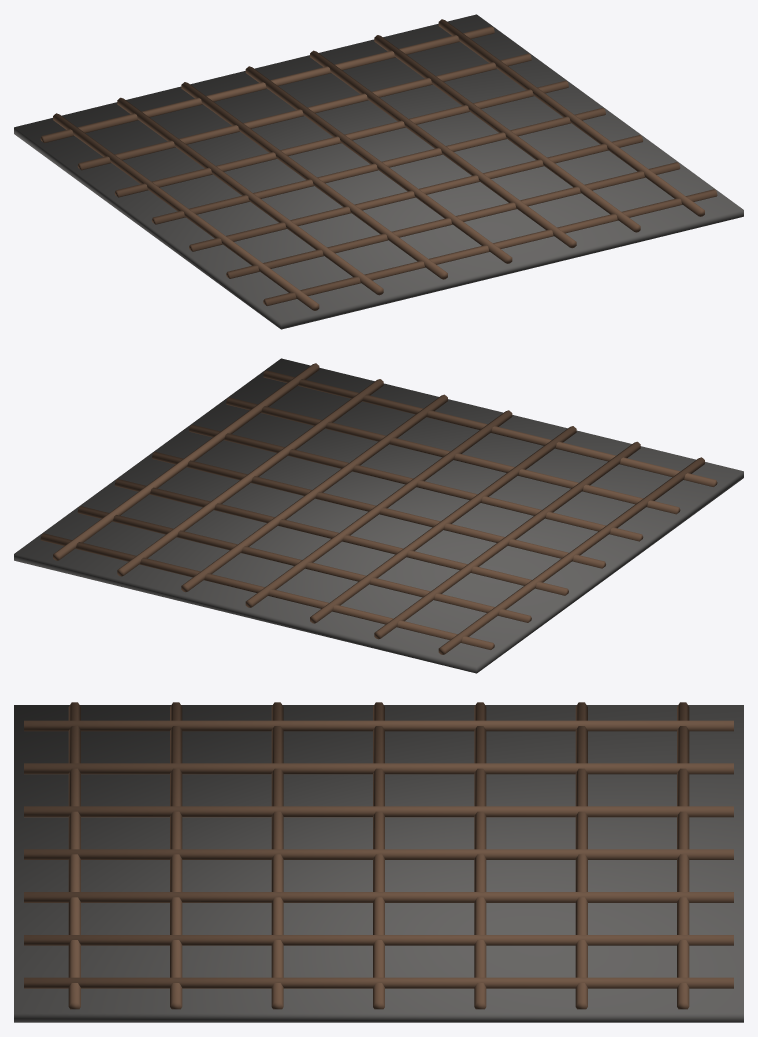
The model's file is spike_grate.glb.
3 views of the same model, one above another, from view 1: azimuth 30°, elevation 25°; view 2: azimuth 150°, elevation 25°; view 3: azimuth 270°, elevation 25° (orthographic). The views are drawn at different scales.
Visible parts, largest first — view 1: Frame, BarX4, BarX0, BarX3, BarX5, BarX2, BarX1, BarX6, BarY2, BarY3, BarY6, BarY5 (+3 smaller); view 2: Frame, BarX2, BarX1, BarX3, BarX6, BarX4, BarX0, BarX5, BarY2, BarY3, BarY6, BarY5 (+3 smaller); view 3: Frame, BarY6, BarY0, BarY1, BarY2, BarY3, BarY4, BarY5, BarX2, BarX4, BarX0, BarX1 (+3 smaller).
Boxes of the visible parts, left/top/right/bottom form: Frame: left=14, top=14, right=743, bottom=329; BarX4: left=114, top=80, right=568, bottom=197; BarX0: left=263, top=189, right=717, bottom=305; BarX3: left=152, top=108, right=605, bottom=224; BarX5: left=77, top=53, right=531, bottom=170; BarX2: left=189, top=135, right=643, bottom=251; BarX1: left=226, top=162, right=680, bottom=278; BarX6: left=40, top=26, right=494, bottom=142; BarY2: left=181, top=82, right=447, bottom=279; BarY3: left=245, top=66, right=512, bottom=263; BarY6: left=438, top=19, right=704, bottom=216; BarY5: left=374, top=35, right=640, bottom=232; Frame: left=14, top=358, right=743, bottom=673; BarX2: left=189, top=424, right=643, bottom=541; BarX1: left=226, top=397, right=680, bottom=514; BarX3: left=152, top=452, right=605, bottom=568; BarX6: left=40, top=533, right=494, bottom=649; BarX4: left=114, top=479, right=568, bottom=595; BarX0: left=263, top=370, right=717, bottom=486; BarX5: left=77, top=506, right=531, bottom=622; BarY2: left=310, top=426, right=576, bottom=623; BarY3: left=245, top=410, right=512, bottom=607; BarY6: left=53, top=363, right=319, bottom=560; BarY5: left=117, top=379, right=383, bottom=576; Frame: left=14, top=705, right=743, bottom=1022; BarY6: left=24, top=977, right=733, bottom=988; BarY0: left=24, top=720, right=733, bottom=731; BarY1: left=24, top=763, right=733, bottom=774; BarY2: left=24, top=806, right=733, bottom=817; BarY3: left=24, top=849, right=733, bottom=859; BarY4: left=24, top=892, right=733, bottom=902; BarY5: left=24, top=935, right=733, bottom=945; BarX2: left=271, top=702, right=283, bottom=1009; BarX4: left=474, top=702, right=486, bottom=1009; BarX0: left=68, top=702, right=80, bottom=1009; BarX1: left=170, top=702, right=182, bottom=1009.
Size of the model in its own units: 1.44 by 0.042 by 1.44.
